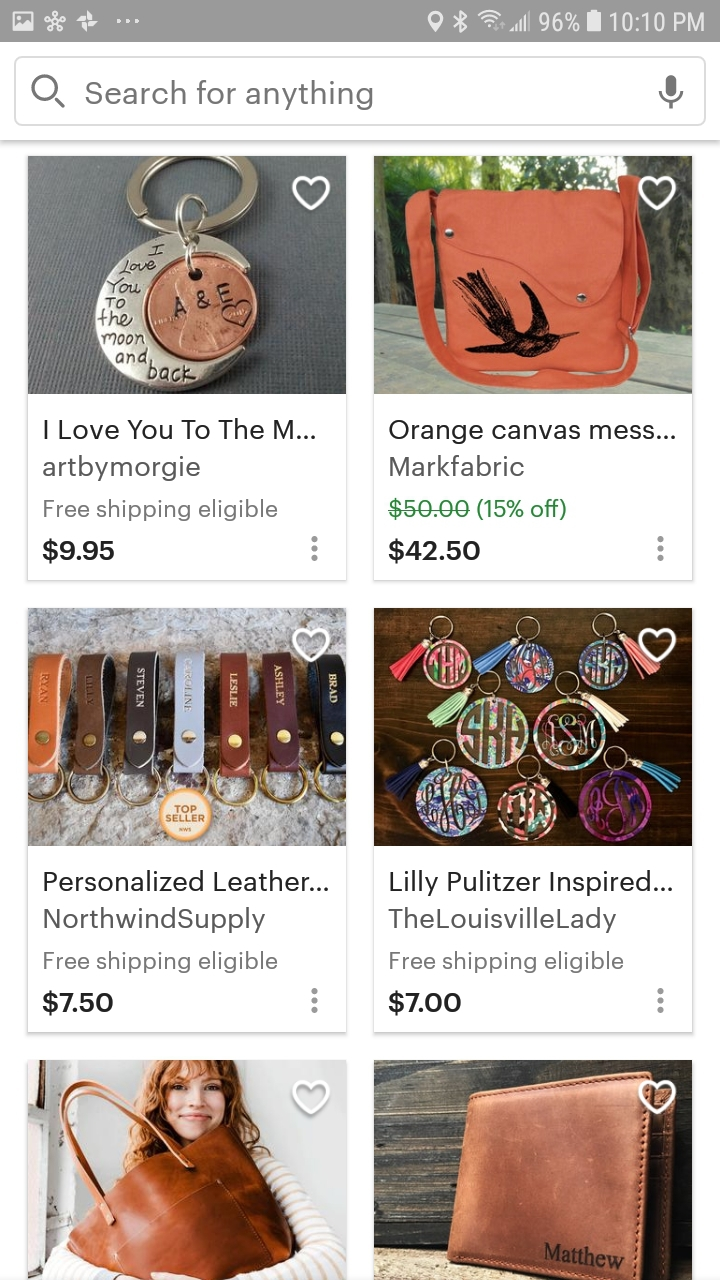EditText: (14, 57, 706, 127)
Icon: (291, 1079, 331, 1115), (292, 627, 332, 663), (638, 628, 677, 663), (292, 176, 331, 211), (638, 176, 676, 211), (638, 1080, 676, 1114), (32, 75, 66, 109), (658, 76, 684, 110), (657, 987, 665, 1014), (311, 988, 319, 1014), (657, 536, 665, 562), (312, 537, 318, 562)
Image: (374, 608, 692, 848), (375, 156, 693, 395), (29, 608, 347, 846), (29, 157, 347, 395), (28, 1060, 347, 1280), (374, 1060, 692, 1280)
Text: (86, 80, 374, 111), (390, 870, 673, 897), (389, 420, 676, 446), (44, 869, 330, 892), (388, 906, 617, 934), (44, 418, 316, 441), (45, 906, 266, 934), (390, 950, 624, 975), (44, 950, 278, 974), (44, 499, 278, 523), (43, 454, 201, 482), (388, 497, 567, 521), (390, 455, 526, 478), (389, 538, 481, 565), (389, 990, 462, 1017), (43, 538, 115, 565), (43, 990, 114, 1017)
UpperTaskBar: (1, 1, 720, 43)
